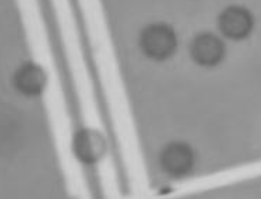cell: (136, 18, 179, 63), (185, 29, 230, 71), (67, 124, 110, 166), (7, 56, 49, 98), (155, 136, 197, 178), (215, 2, 255, 43)
